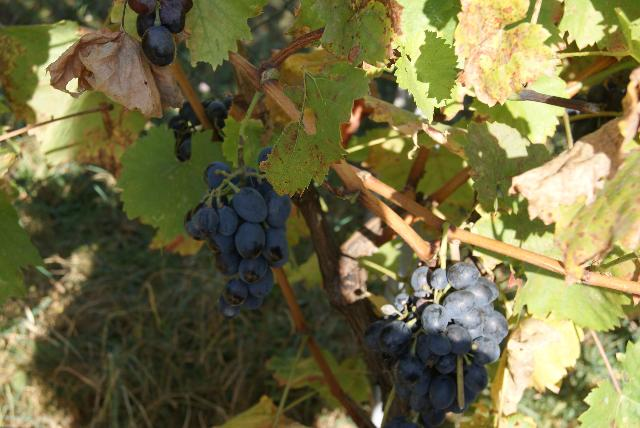grapes: (364, 261, 509, 428), (184, 161, 291, 319)
